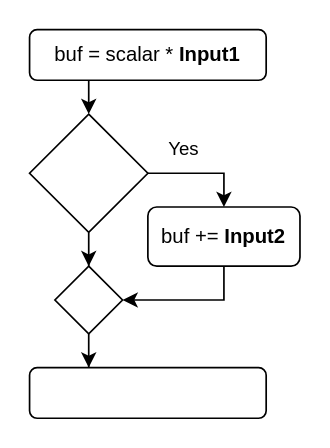
The diagram is 330 pixels wide and 448 high, and some of its shapes have lost their labels. Here are the shapes that lost their labels. From the top down, the centre of each, then its label:
the point at 88,172: Second Input?
the point at 147,392: Output = buf
